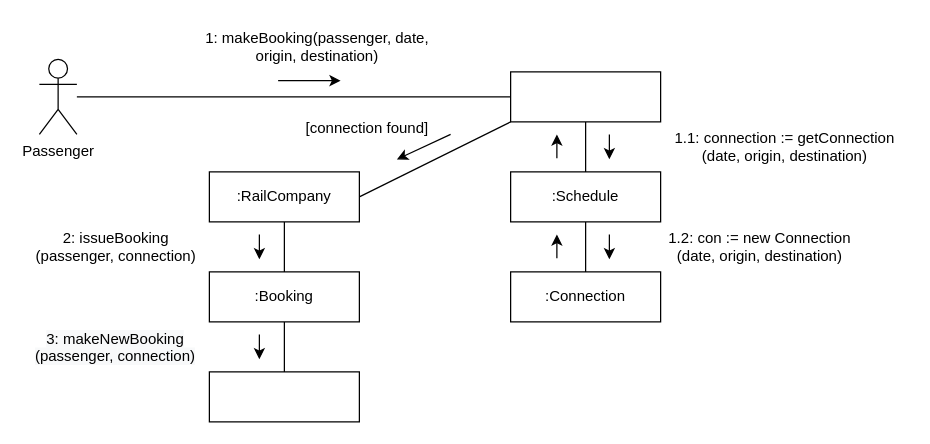
The diagram is 930 pixels wide and 444 high, and some of its shapes have lost their labels. The box of each missing label's shape, as (x1, y1, x2, y2) in pixels:
:Terminal: (509, 71, 661, 122)
:Ticket: (208, 371, 359, 422)
